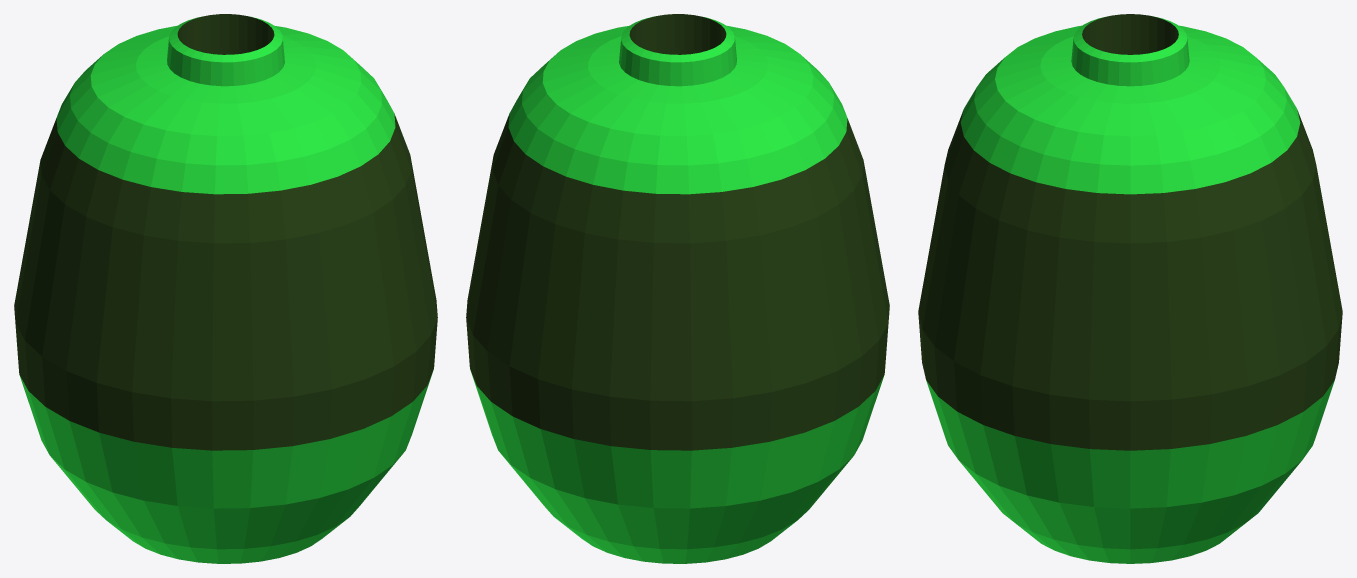
The model's file is Waza.fbx.
3 renders of one model, left to right at view 1: azimuth 30°, elevation 25°; view 2: azimuth 150°, elevation 25°; view 3: azimuth 270°, elevation 25°, orthographic.
Visible parts, largest first — view 1: Cylinder; view 2: Cylinder; view 3: Cylinder.
Part boxes in pixels (x1,y1,x2,y2): Cylinder: (14, 14, 437, 563); Cylinder: (466, 14, 889, 563); Cylinder: (918, 14, 1342, 563).
Size of the model in its own units: 306 by 386 by 306.
